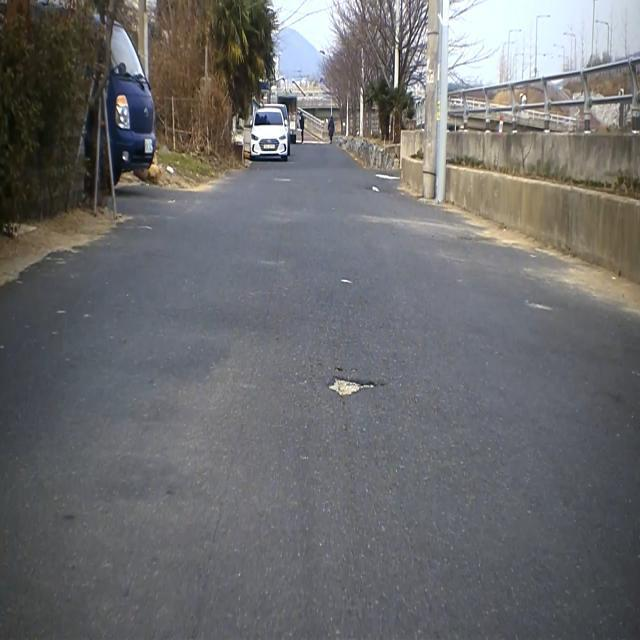pothole: (323, 368, 383, 411)
